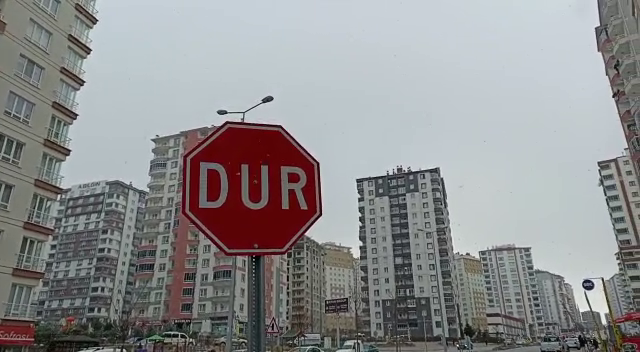stop: (179, 119, 326, 258)
